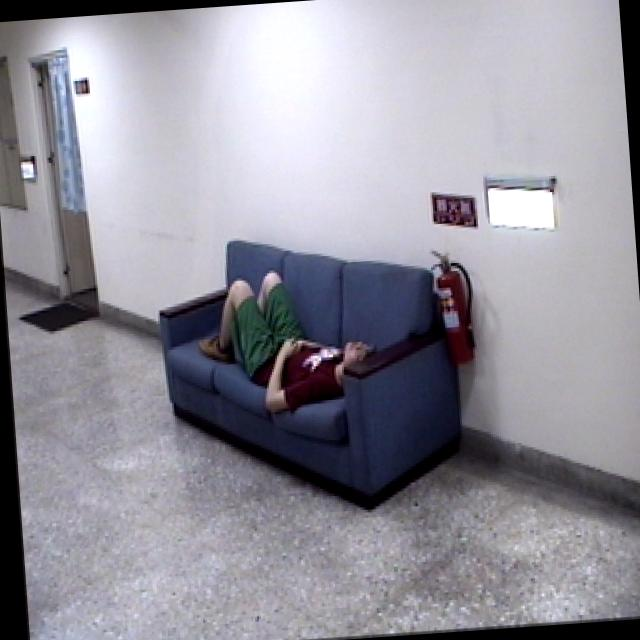lie: (194, 256, 392, 428)
